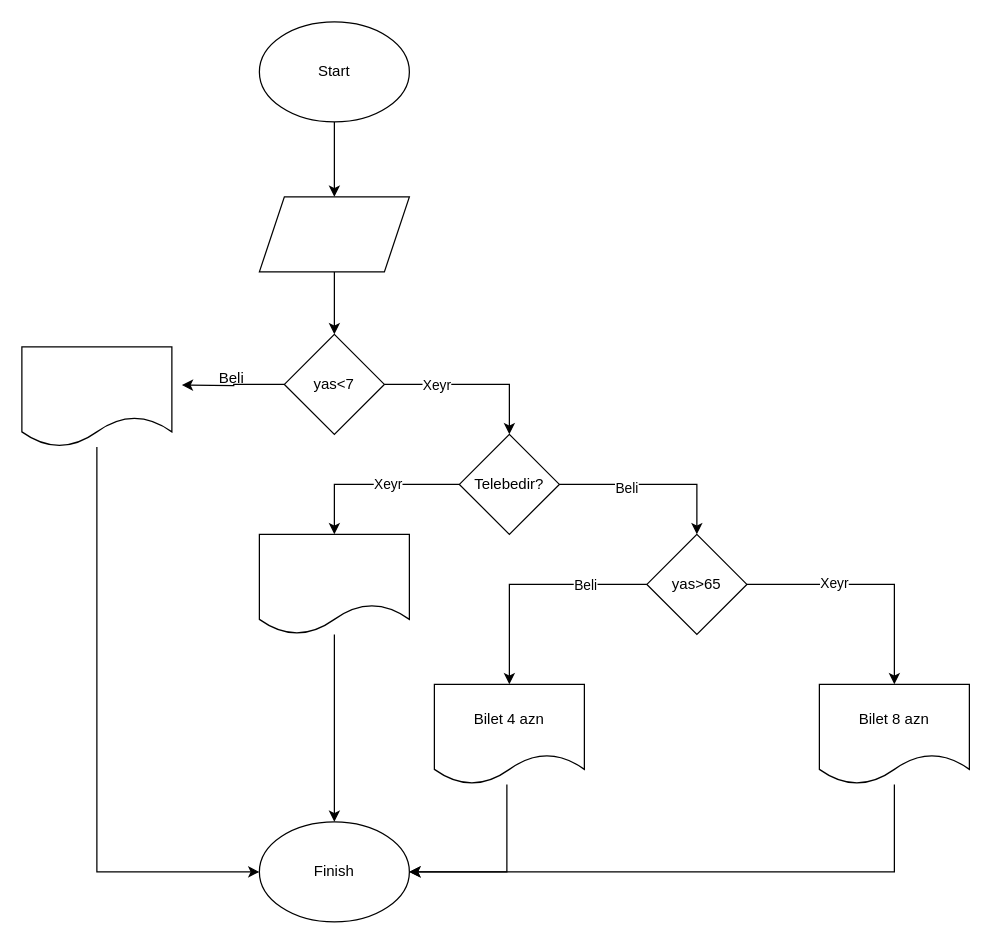
This 991x944 diagram has some shape labels left out. Each missing label, with the box of its shape:
Bilet 5 azn: (258, 533, 409, 634)
Bilet pulsuzdur: (21, 346, 172, 447)
yas: (258, 196, 409, 272)
